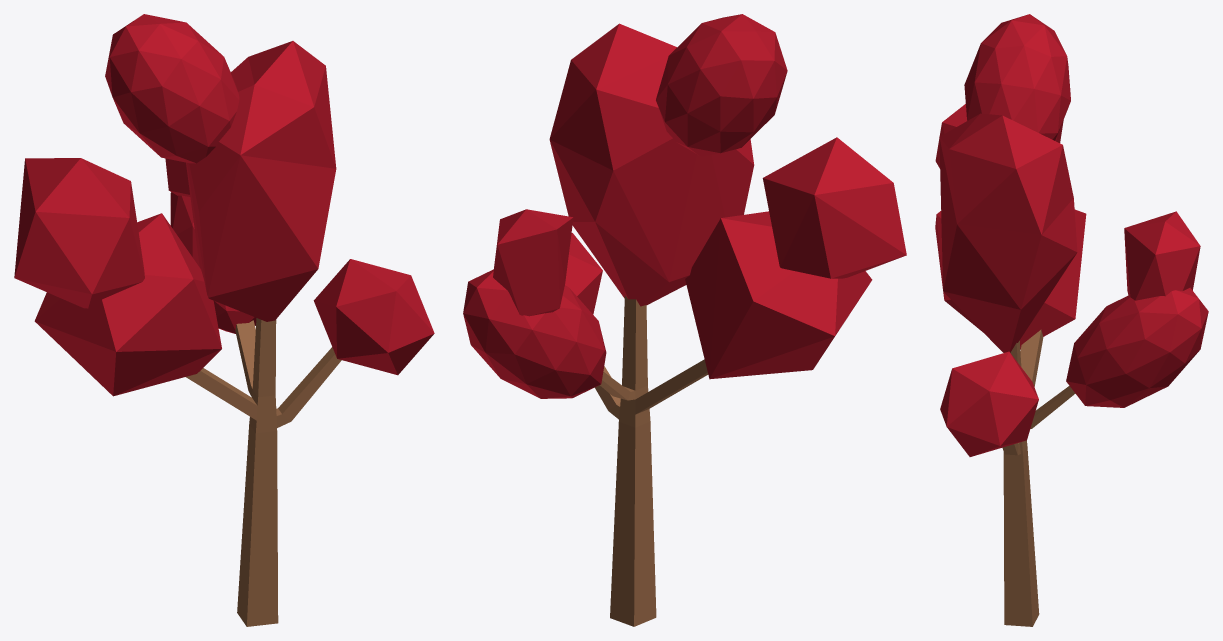
Rendered from tree-dead-complete-1-001.glb.
3 renders of one model, left to right at view 1: azimuth 30°, elevation 25°; view 2: azimuth 150°, elevation 25°; view 3: azimuth 270°, elevation 25°, orthographic. The views are drawn at different scales.
Parts seen in each view (by area): view 1: TREE 1.007_495, TREE 1.006_496; view 2: TREE 1.007_495, TREE 1.006_496; view 3: TREE 1.007_495, TREE 1.006_496.
Boxes of the visible parts, box(x1,y1,x2,y2) form: TREE 1.007_495: box(14, 14, 434, 396); TREE 1.006_496: box(186, 318, 341, 626); TREE 1.007_495: box(463, 14, 906, 398); TREE 1.006_496: box(594, 296, 708, 626); TREE 1.007_495: box(935, 14, 1208, 456); TREE 1.006_496: box(1002, 329, 1075, 626).
Size of the model in its own units: 1.17 by 1.74 by 0.7756.
